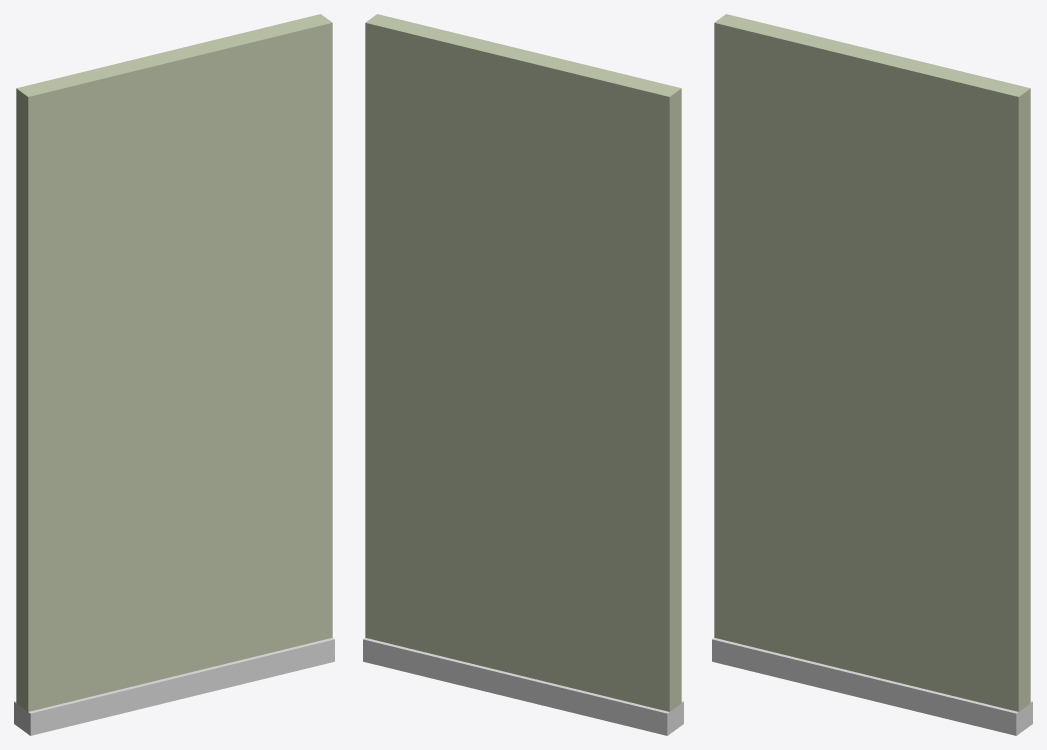
File: MODwall.fbx
3 renders of one model, left to right at view 1: azimuth 30°, elevation 25°; view 2: azimuth 150°, elevation 25°; view 3: azimuth 330°, elevation 25°, orthographic.
Parts seen in each view (by area): view 1: Cube; view 2: Cube; view 3: Cube.
Part boxes in pixels (left/top/right/bottom): Cube: left=14, top=14, right=334, bottom=735; Cube: left=363, top=14, right=683, bottom=735; Cube: left=712, top=14, right=1032, bottom=735.
Bounding box in the file's own units: 200 × 400 × 18.78.
